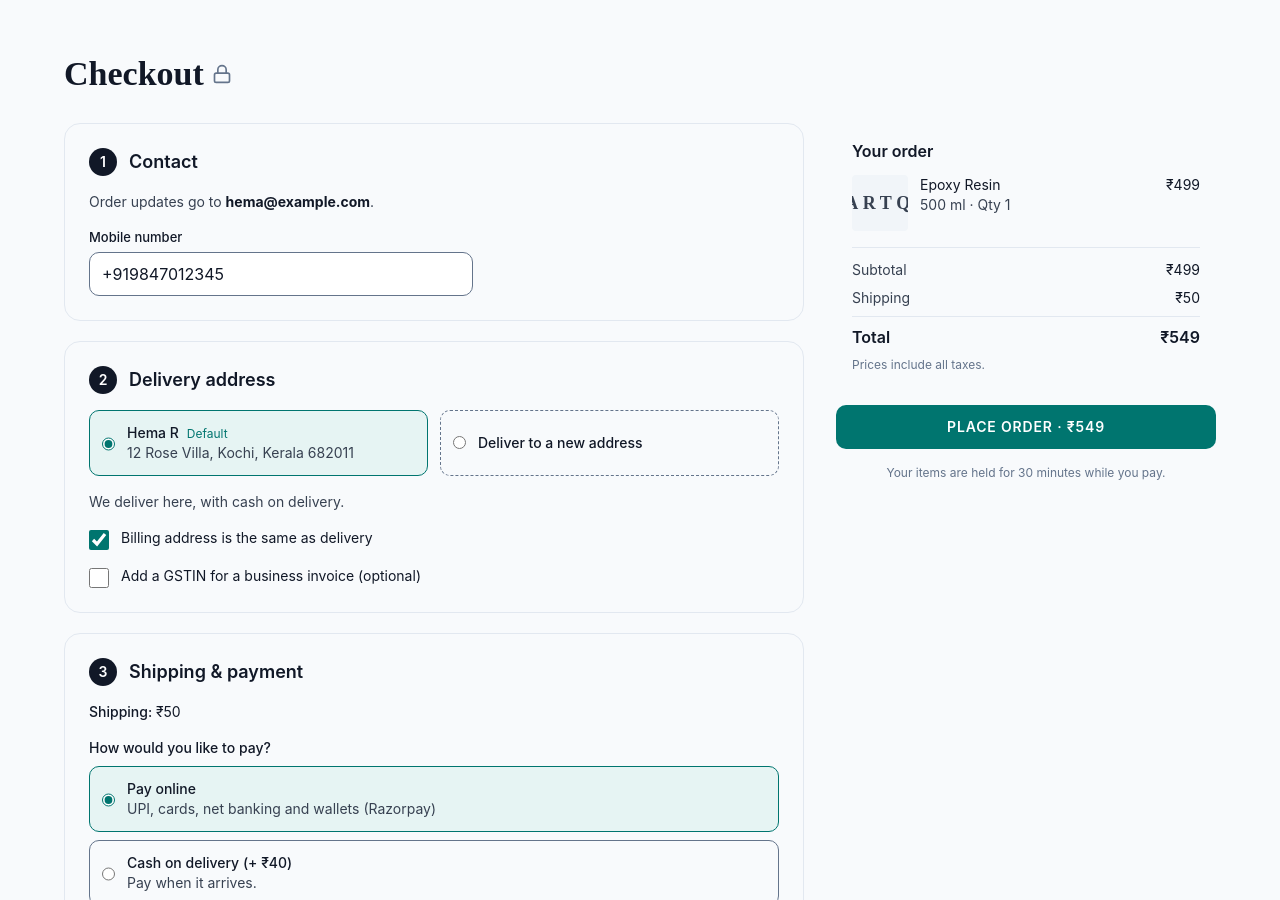
signed in › saved addresses: the default is chosen and quoted; a new address offers saving it
This screenshot has width=1280, height=900.
Expected: the text "hema@example.com" is shown, [226,193,370,210]
Expected: the field labelled "Mobile number" holds "+919847012345", [89,252,473,296]
Click the radio button labelled "Deliver to a new address" at (460, 442), box [453,436,466,449]
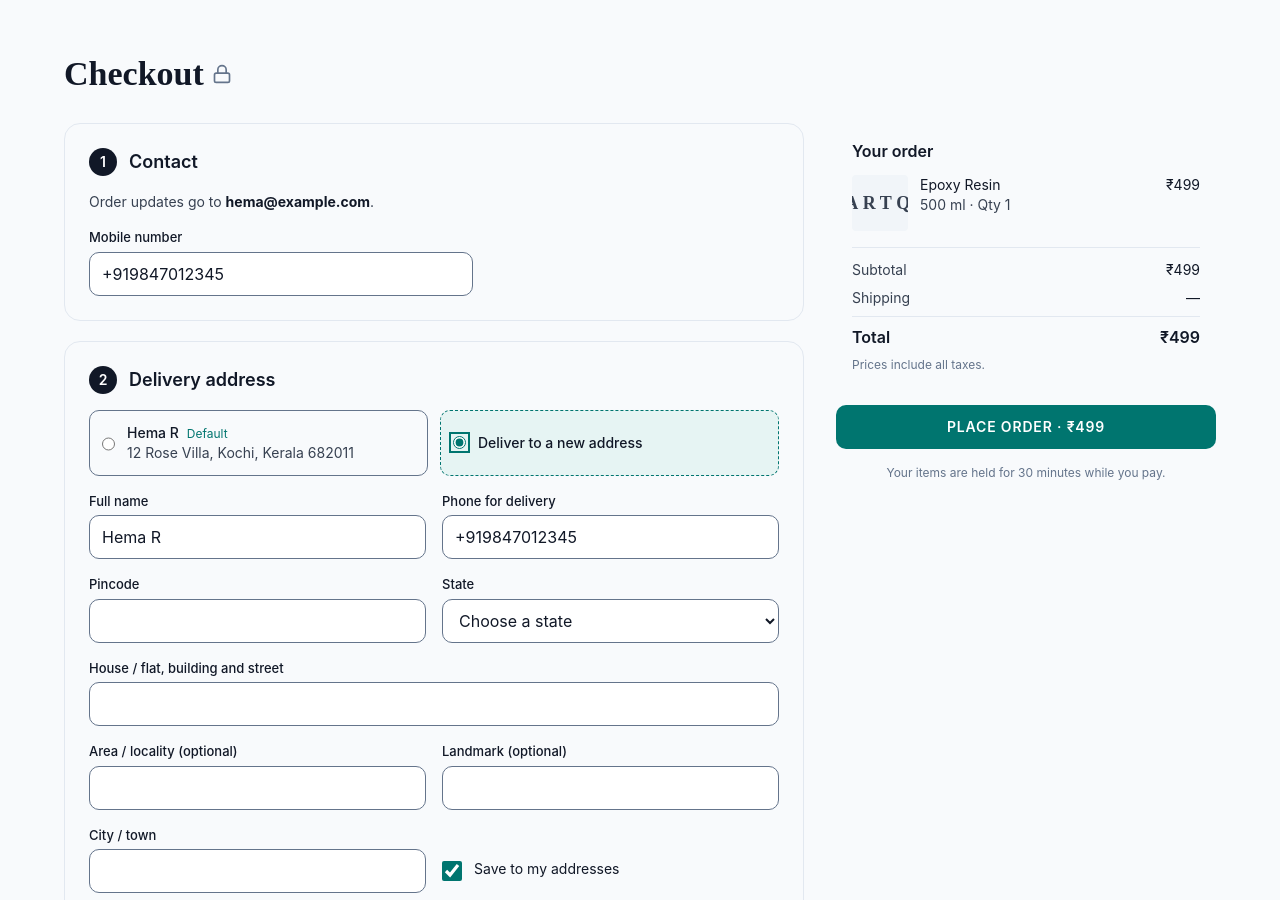
Expected: the checkbox labelled "Save to my addresses" is shown, [442,861,462,881]
